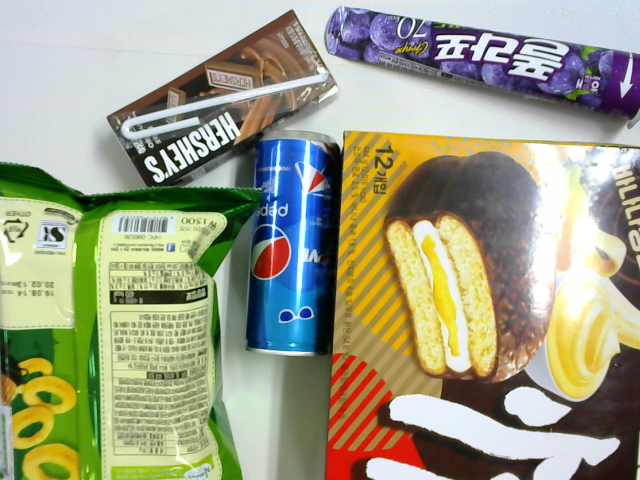Choco_Pie_Banana: (328, 129, 639, 480)
Grilled_Onions: (1, 191, 235, 480)
Hush_Choco_Drink: (104, 7, 337, 184)
Pepsi_Cola_Can_250ml: (250, 130, 330, 357)
Polapo_Grape: (324, 1, 640, 125)
